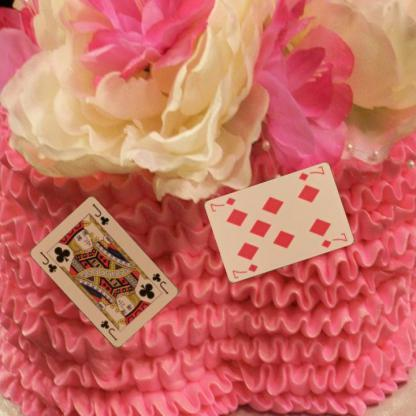7d: (230, 261, 258, 280), (296, 164, 325, 182)
Jc: (150, 271, 170, 296), (38, 249, 58, 274)
